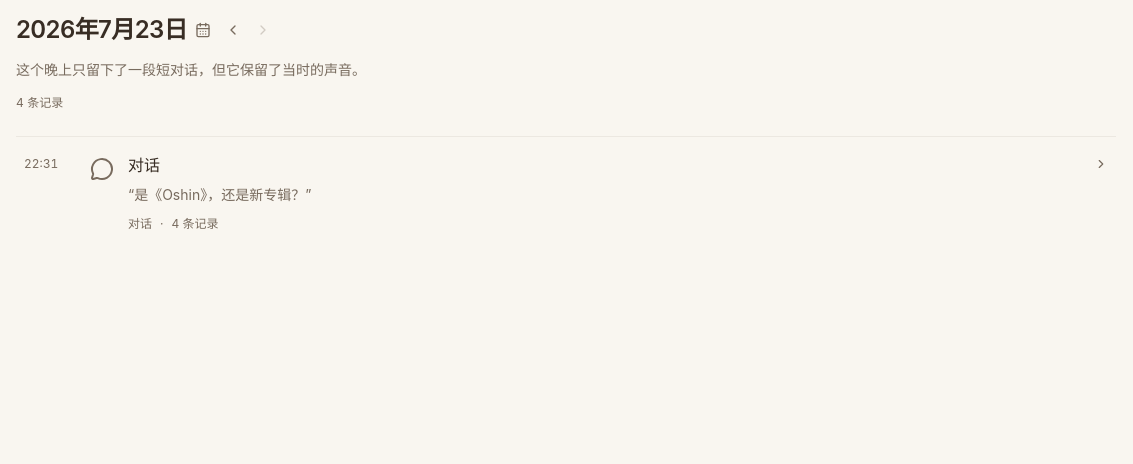
Test case: DaySceneReader › does not repeat a chat record in both drawer sections
Click the button "22:31 对话 “是《Oshin》，还是新专辑？” 对话 · 4 条记录".
click(41, 164)  # box [16,137,1116,249]
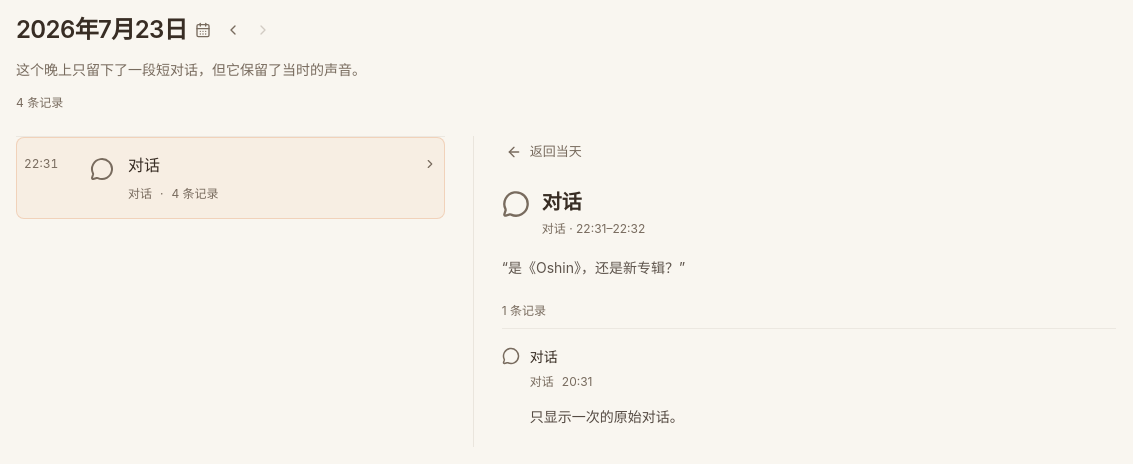
Check: the text "只显示一次的原始对话。" is shown once, box [530,408,684,424]
